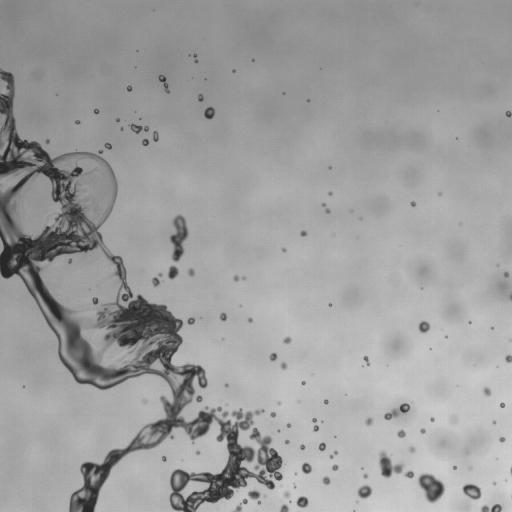droplet: (418, 473, 445, 503), (462, 483, 481, 499), (357, 485, 372, 498), (248, 489, 260, 503), (168, 265, 179, 279), (418, 321, 429, 333), (296, 496, 308, 507), (152, 273, 162, 286), (204, 107, 214, 119), (301, 462, 311, 473), (483, 387, 491, 396), (269, 353, 277, 361), (322, 476, 330, 484), (187, 268, 194, 276), (219, 313, 226, 321), (283, 336, 291, 343), (365, 417, 372, 425), (450, 416, 457, 424), (397, 430, 405, 437), (318, 442, 325, 450), (280, 504, 288, 511), (363, 356, 369, 365), (153, 131, 158, 141), (187, 317, 194, 324), (283, 491, 290, 498), (142, 138, 148, 145), (105, 142, 111, 149), (233, 275, 240, 281), (505, 355, 511, 362), (281, 362, 287, 369), (196, 395, 202, 402), (300, 230, 306, 236), (409, 446, 415, 452), (332, 464, 338, 470), (198, 94, 203, 101), (127, 85, 132, 91), (505, 111, 511, 116), (313, 425, 318, 431), (499, 437, 505, 442), (94, 109, 99, 114), (325, 208, 330, 213), (500, 402, 505, 407), (270, 412, 275, 417), (420, 428, 425, 433), (300, 444, 305, 449), (462, 448, 467, 453), (75, 120, 80, 124), (411, 201, 415, 206), (504, 272, 508, 277), (248, 317, 252, 322), (324, 399, 328, 404), (162, 456, 166, 461), (45, 139, 49, 143), (282, 248, 286, 252), (301, 381, 305, 385), (430, 417, 434, 421), (312, 418, 316, 422), (285, 440, 289, 444), (363, 474, 367, 478), (328, 192, 332, 195), (68, 259, 71, 263), (143, 399, 146, 403), (277, 401, 280, 405), (287, 423, 290, 427), (120, 127, 123, 130), (322, 203, 325, 206), (242, 276, 245, 279), (225, 383, 228, 386), (196, 451, 199, 454), (453, 466, 456, 469), (232, 70, 235, 72), (116, 119, 119, 121), (438, 193, 441, 195), (468, 321, 471, 323), (493, 482, 495, 485), (86, 307, 88, 309), (491, 327, 493, 329), (493, 421, 495, 423), (294, 484, 296, 486)
ligament: (0, 68, 283, 511), (379, 450, 414, 478), (169, 214, 188, 262), (384, 403, 410, 420), (158, 75, 169, 93), (129, 124, 148, 133), (233, 499, 247, 511), (480, 504, 502, 511), (329, 451, 337, 458), (193, 54, 197, 62), (509, 293, 511, 300), (510, 467, 511, 474)
